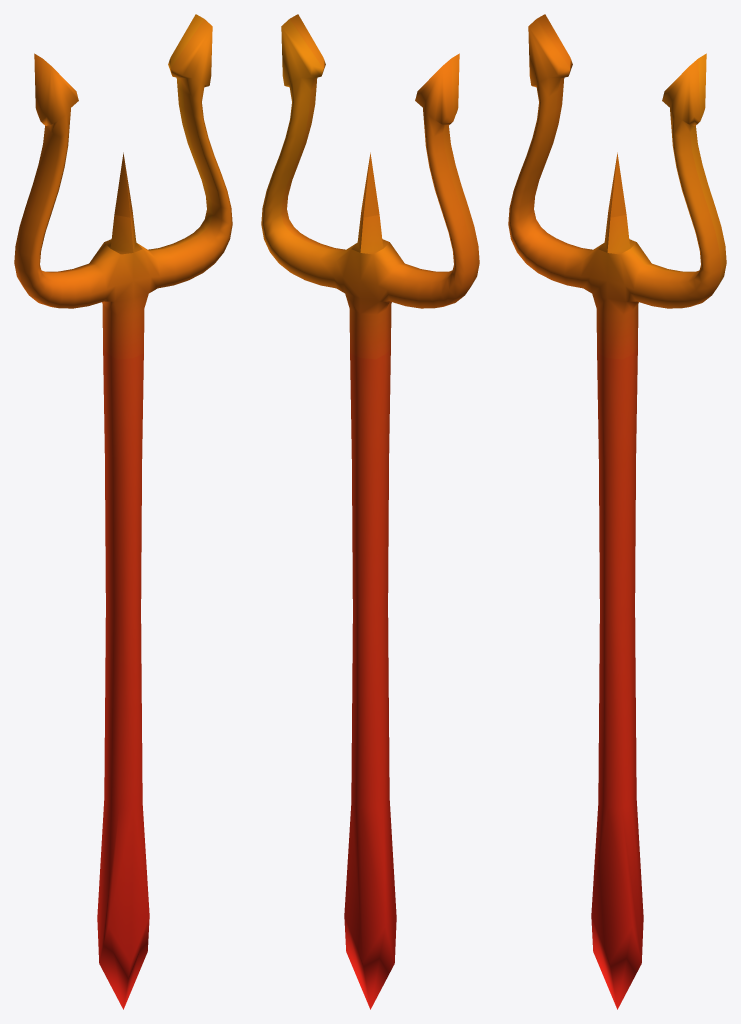
Rendered from wpms cap5a.fbx.
The picture shows the model from 3 angles, left to right: view 1: azimuth 30°, elevation 25°; view 2: azimuth 150°, elevation 25°; view 3: azimuth 330°, elevation 25°; orthographic projection.
Parts seen in each view (by area): view 1: wpms_cap5a; view 2: wpms_cap5a; view 3: wpms_cap5a.
Part boxes in pixels (x1,y1,x2,y2): wpms_cap5a: (14, 14, 232, 1009); wpms_cap5a: (261, 14, 479, 1009); wpms_cap5a: (508, 14, 726, 1009).
Bounding box in the file's own units: 44.23 × 198 × 7.41.
1 material, 1 textured.
